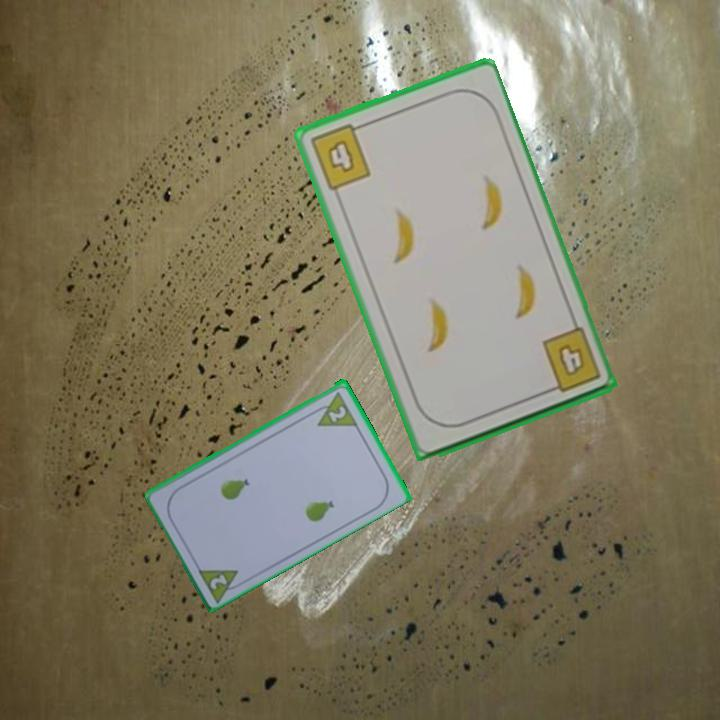2p: (194, 563, 248, 604), (308, 387, 360, 429)
4b: (306, 119, 374, 194), (537, 323, 604, 396)
